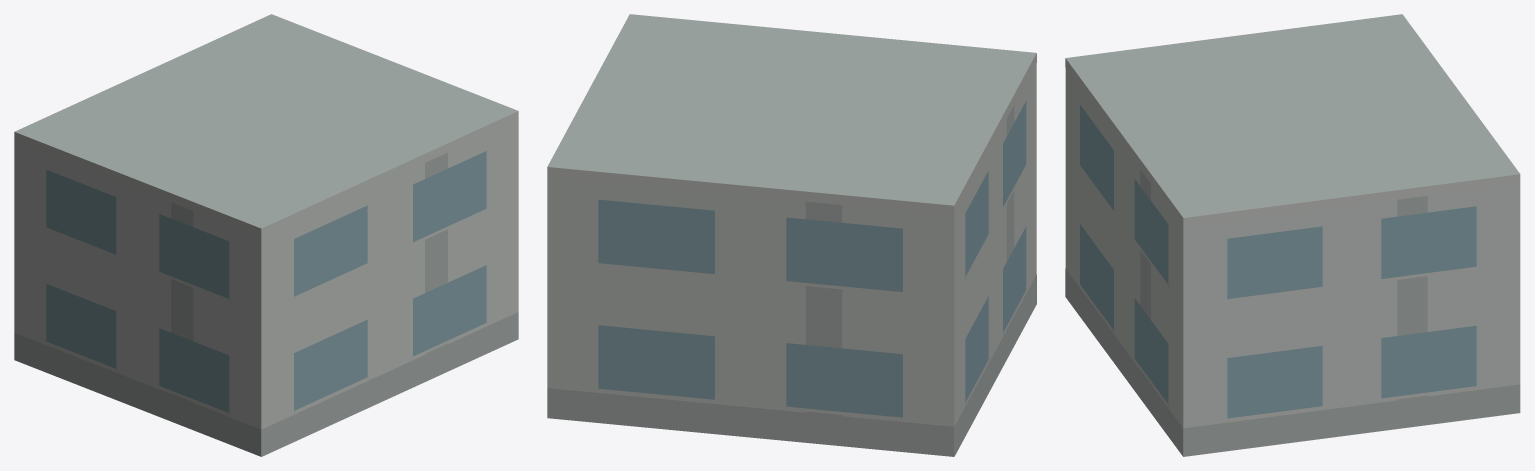
File: survey-upis-33007331.glb
3 views of the same model, side by side, from view 1: azimuth 30°, elevation 25°; view 2: azimuth 150°, elevation 25°; view 3: azimuth 270°, elevation 25° (orthographic). The views are drawn at different scales.
Parts seen in each view (by area): view 1: survey-upis-33007331.tmp; view 2: survey-upis-33007331.tmp; view 3: survey-upis-33007331.tmp.
Part boxes in pixels (x1,y1,x2,y2): survey-upis-33007331.tmp: (14, 14, 518, 456); survey-upis-33007331.tmp: (547, 14, 1036, 456); survey-upis-33007331.tmp: (1065, 14, 1520, 456).
Bounding box in the file's own units: 11.19 × 6.1 × 10.54.
